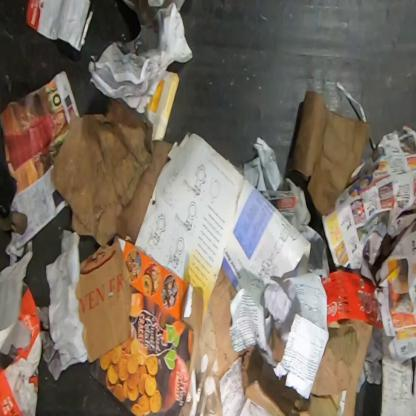cardboard: (49, 97, 174, 363), (179, 266, 375, 415), (89, 233, 204, 415), (290, 90, 370, 216), (0, 286, 43, 415), (322, 267, 384, 331)
